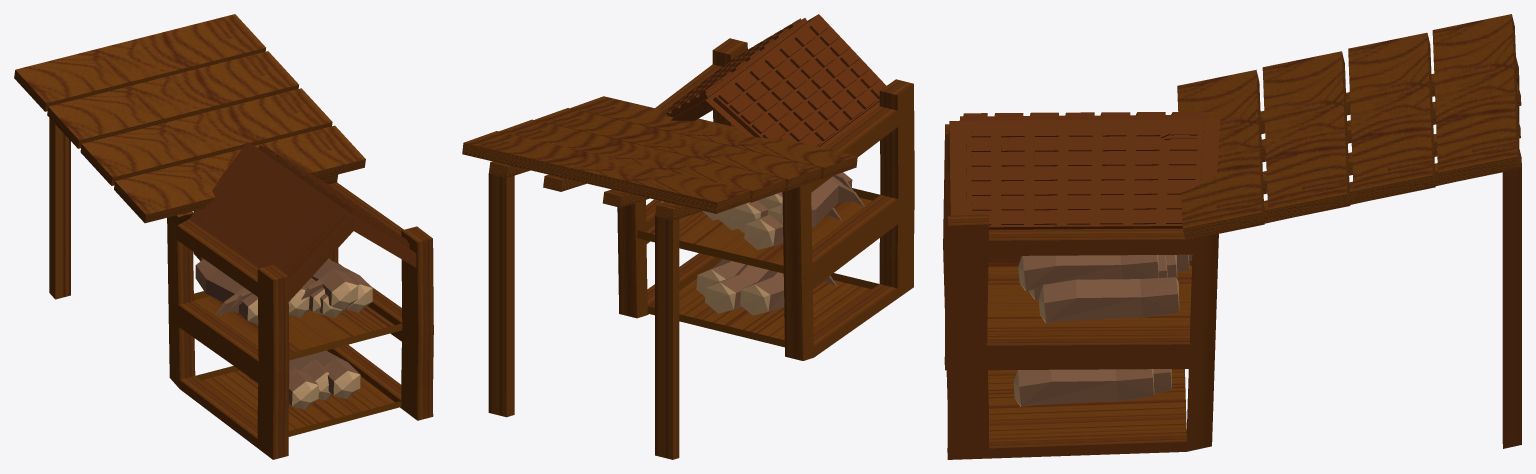
File: kahoy.fbx
3 views of the same model, side by side, from view 1: azimuth 30°, elevation 25°; view 2: azimuth 150°, elevation 25°; view 3: azimuth 270°, elevation 25° (orthographic). The views are drawn at different scales.
Parts seen in each view (by area): view 1: tree house, kahoy.025, kahoy, kahoy.020, kahoy.023, kahoy.019, kahoy.027, kahoy.015; view 2: tree house, kahoy.023, kahoy.025, kahoy.019, kahoy.014, kahoy.020, kahoy.013; view 3: tree house, kahoy.027, kahoy.020, kahoy.
Boxes of the visible parts, x1,y1,x2,y2 form: tree house: (14, 14, 433, 459); kahoy.025: (195, 259, 258, 323); kahoy: (301, 262, 358, 309); kahoy.020: (308, 350, 360, 399); kahoy.023: (249, 364, 318, 409); kahoy.019: (289, 355, 332, 400); kahoy.027: (325, 258, 372, 312); kahoy.015: (289, 286, 309, 317); tree house: (462, 14, 914, 459); kahoy.023: (740, 270, 836, 315); kahoy.025: (767, 172, 864, 227); kahoy.019: (705, 264, 768, 313); kahoy.014: (744, 207, 841, 249); kahoy.020: (696, 259, 744, 296); kahoy.013: (730, 201, 768, 232); tree house: (943, 14, 1521, 459); kahoy.027: (1038, 277, 1179, 323); kahoy.020: (1013, 369, 1154, 407); kahoy: (1018, 255, 1158, 291).
Size of the model in its own units: 30.82 by 31.7 by 52.08.
